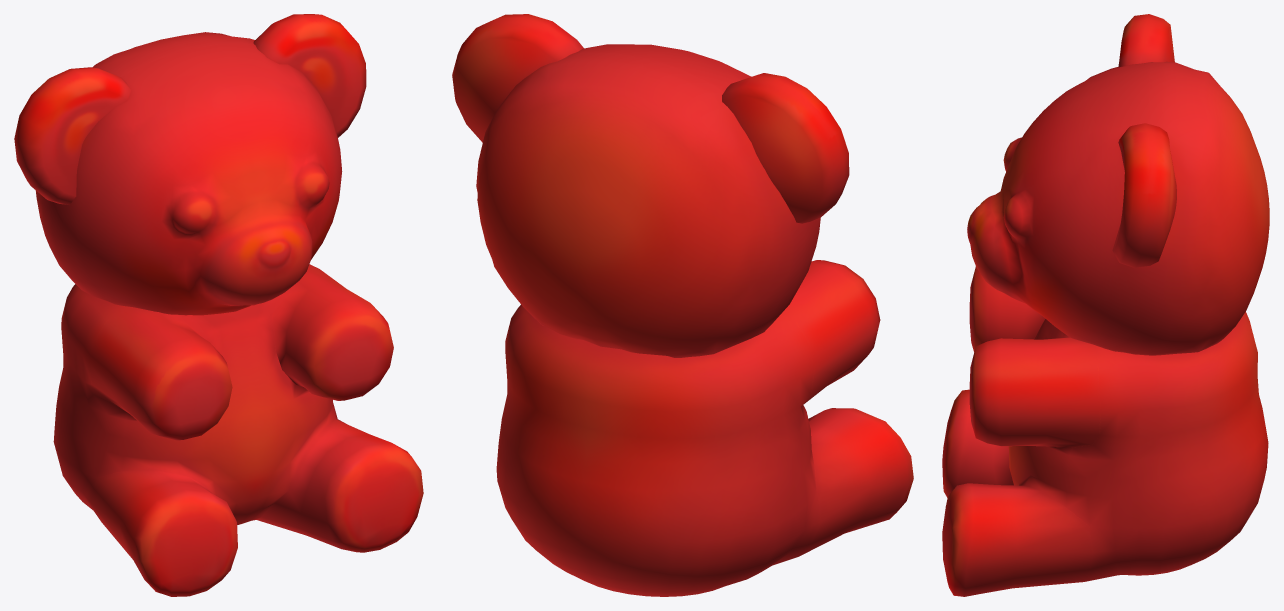
Rendered from XiaoXiongRuanTang3.FBX.
3 renders of one model, left to right at view 1: azimuth 30°, elevation 25°; view 2: azimuth 150°, elevation 25°; view 3: azimuth 270°, elevation 25°, orthographic. The views are drawn at different scales.
Visible parts, largest first — view 1: XiaoXiongRuanTang; view 2: XiaoXiongRuanTang; view 3: XiaoXiongRuanTang.
Part boxes in pixels (x1,y1,x2,y2): XiaoXiongRuanTang: (14, 14, 423, 596); XiaoXiongRuanTang: (452, 14, 913, 596); XiaoXiongRuanTang: (942, 14, 1269, 596).
Size of the model in its own units: 881 by 1143 by 716.
